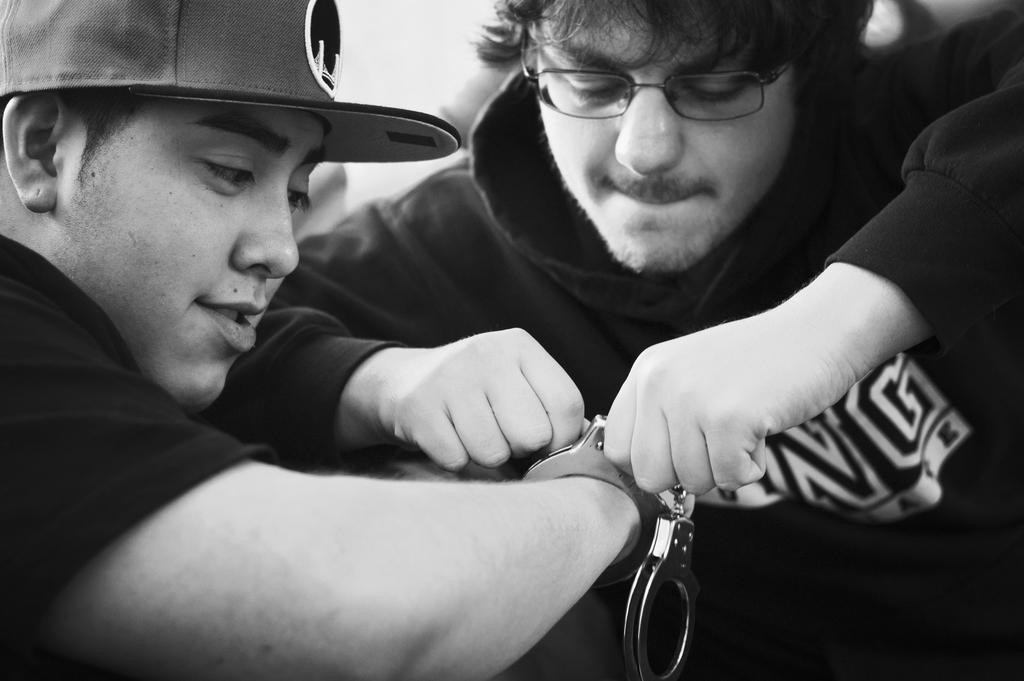Hat: (0, 0, 464, 147)
